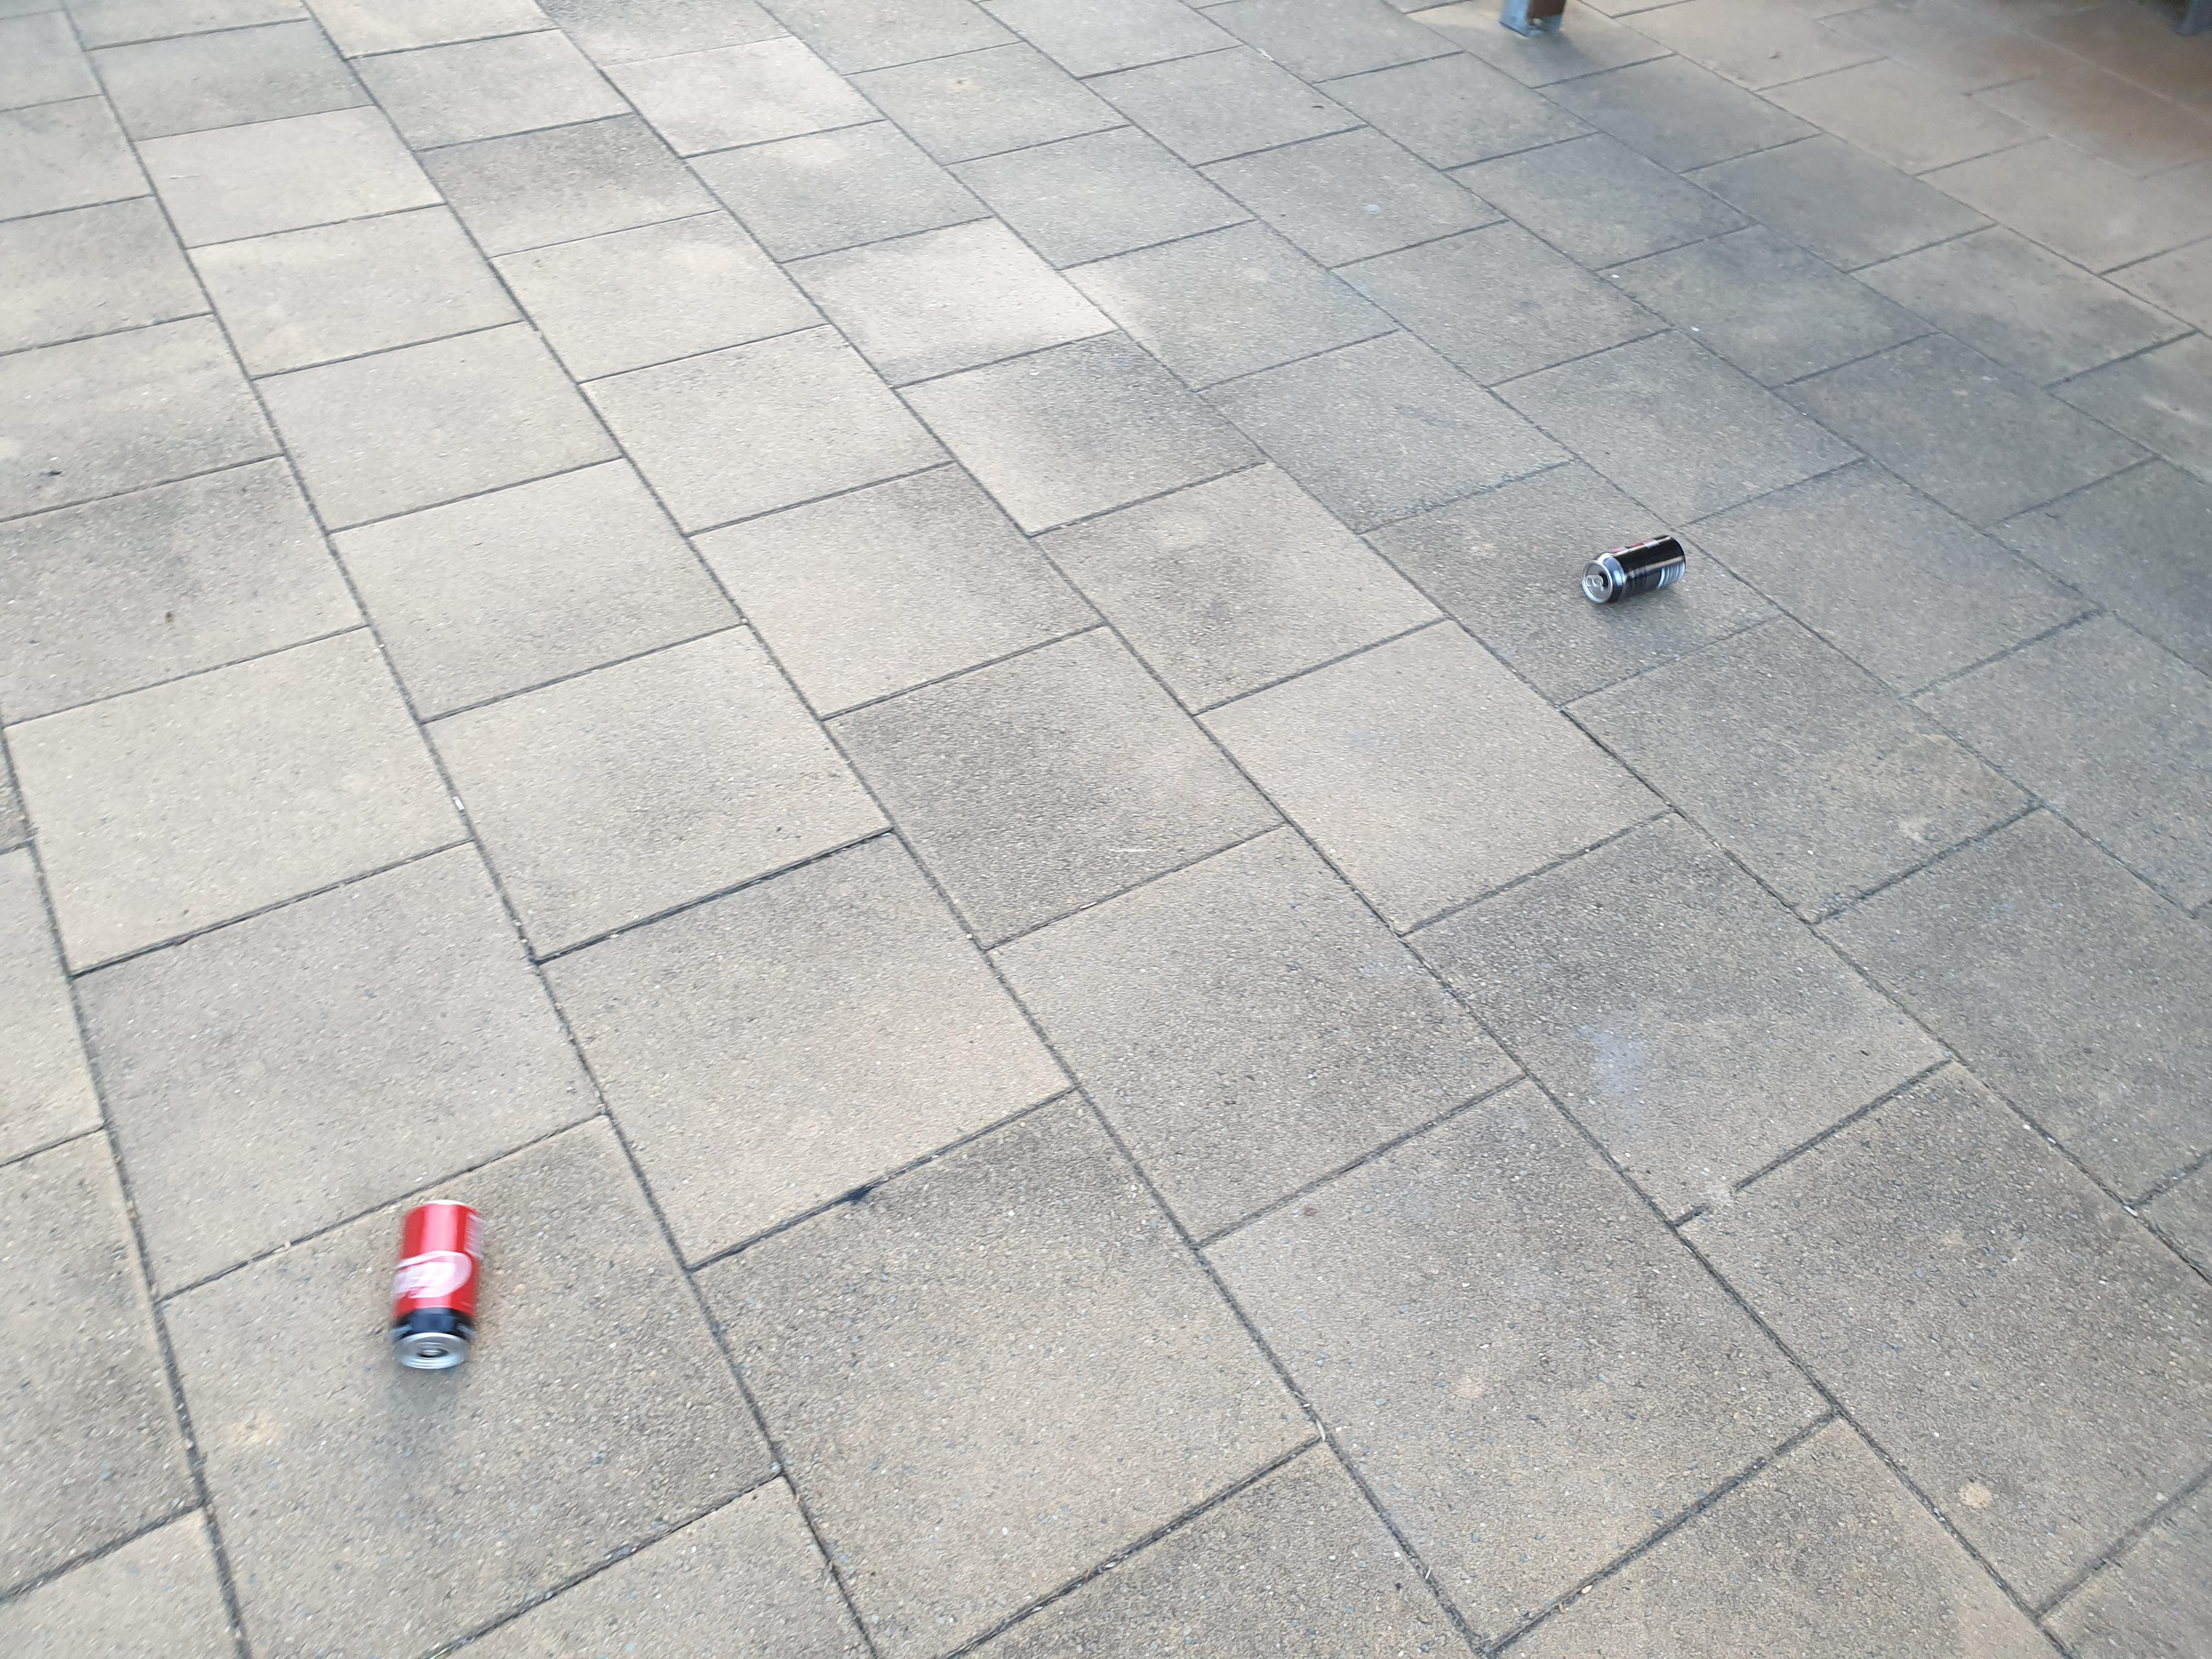Plastic Bottle: (392, 1199, 482, 1368), (1581, 535, 1686, 605)
